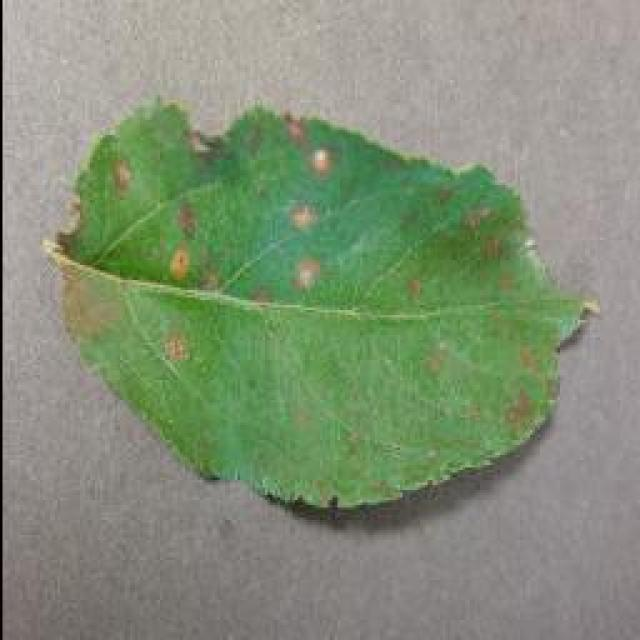apple scab disease: (40, 92, 600, 518)
